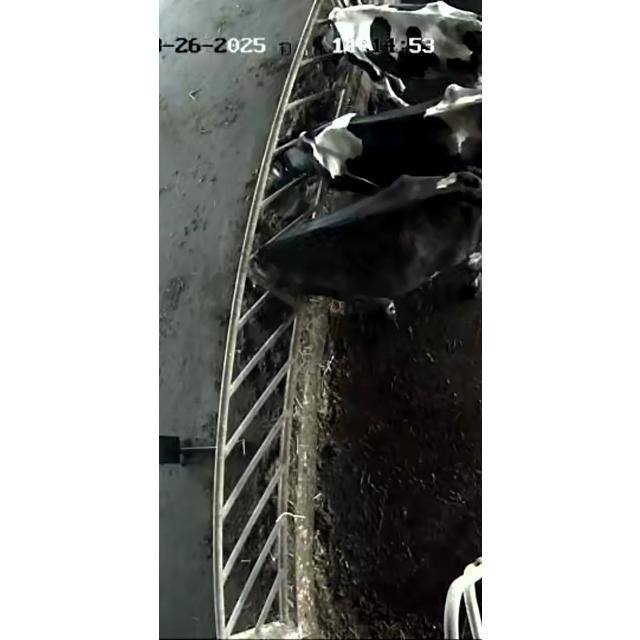eat: (220, 104, 394, 190), (251, 4, 421, 74), (205, 216, 349, 298)
